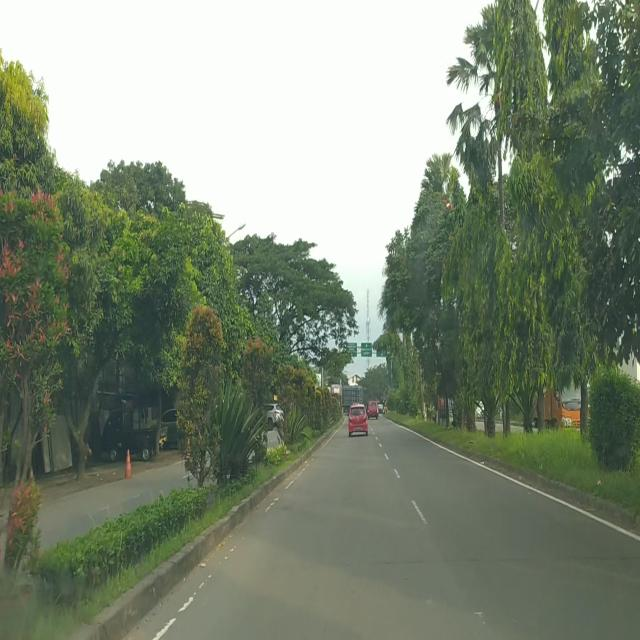Sewer Cover: (263, 551, 640, 576)
